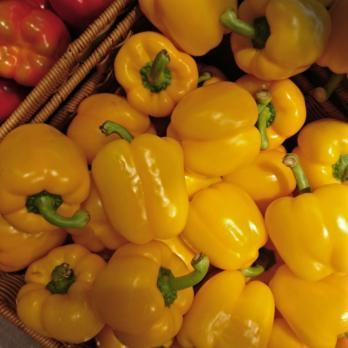Capsicum: (0, 0, 348, 284), (11, 246, 348, 348)
